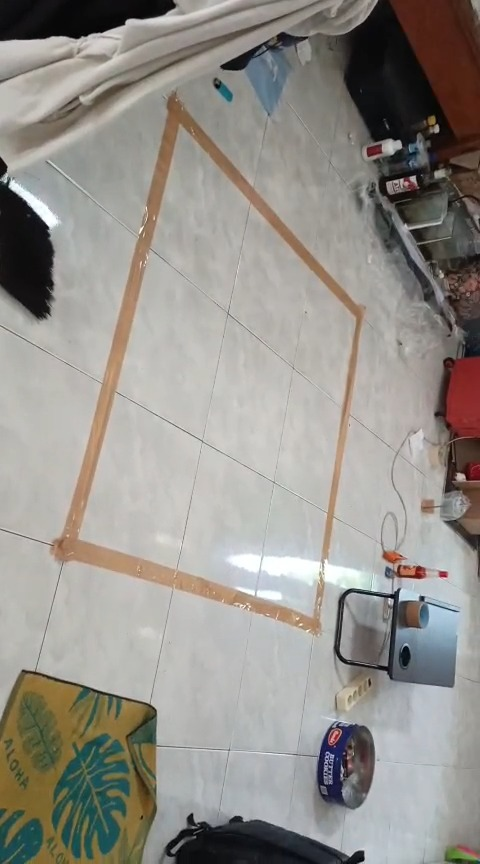floor marking: (53, 94, 364, 635)
